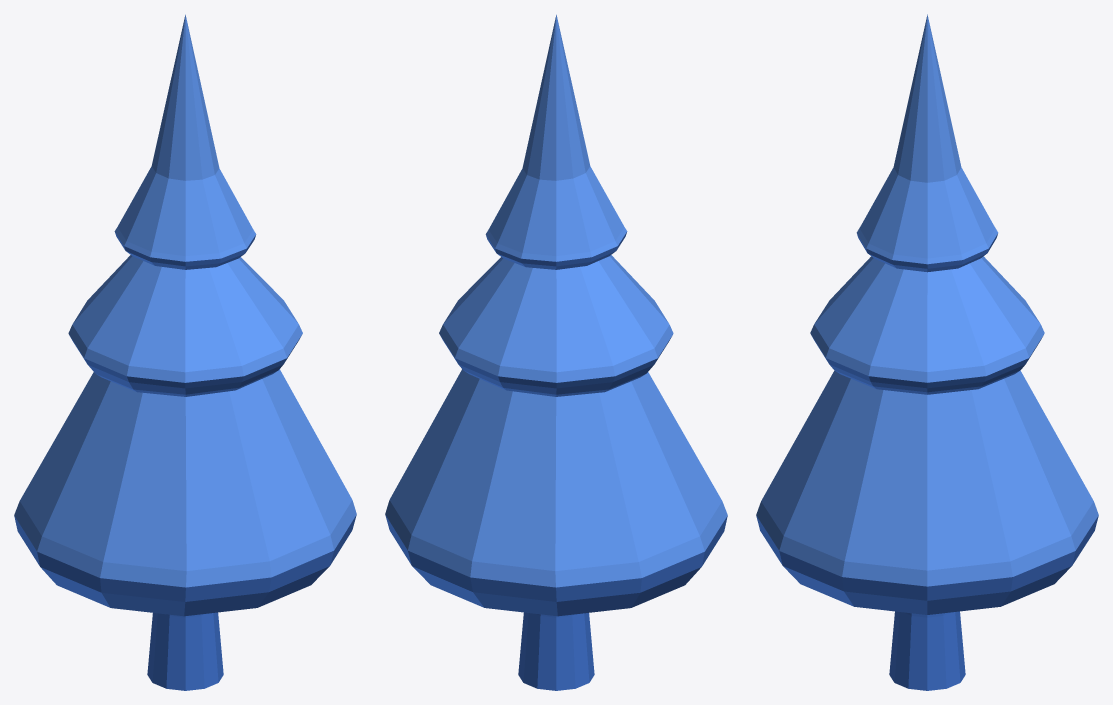
The model's file is Agac2.fbx.
3 renders of one model, left to right at view 1: azimuth 30°, elevation 25°; view 2: azimuth 150°, elevation 25°; view 3: azimuth 270°, elevation 25°, orthographic.
Parts seen in each view (by area): view 1: Circle; view 2: Circle; view 3: Circle.
Boxes of the visible parts, x1,y1,x2,y2 form: Circle: [14, 14, 356, 690]; Circle: [385, 14, 727, 690]; Circle: [756, 14, 1098, 690].
Bounding box in the file's own units: 260 × 553 × 260.
